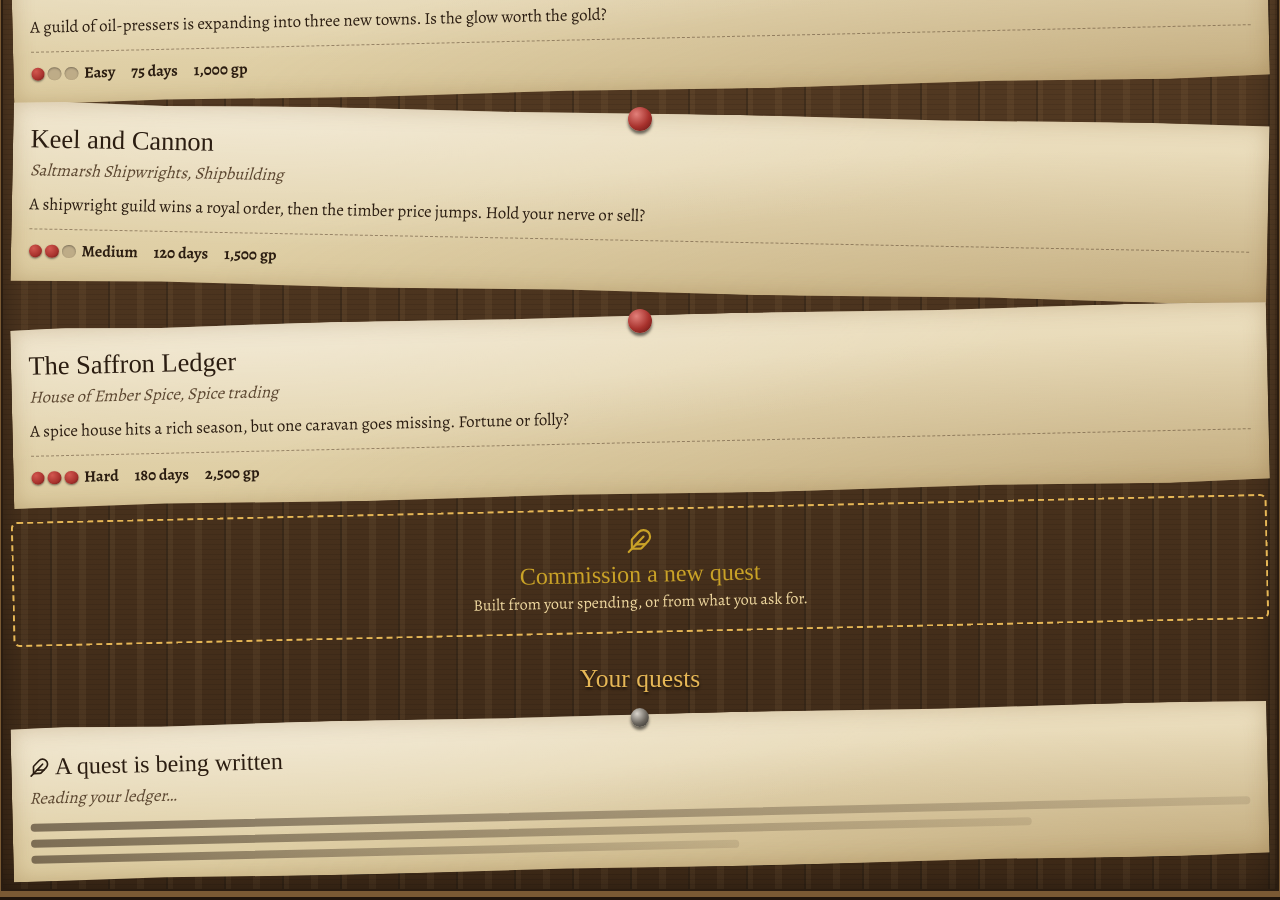
Test: QuestBoard › commissions with the suggestion ("Use this")
(page scrolled)
Click the button "Commission a new quest".
click(640, 570)  # box [11,493,1269,647]
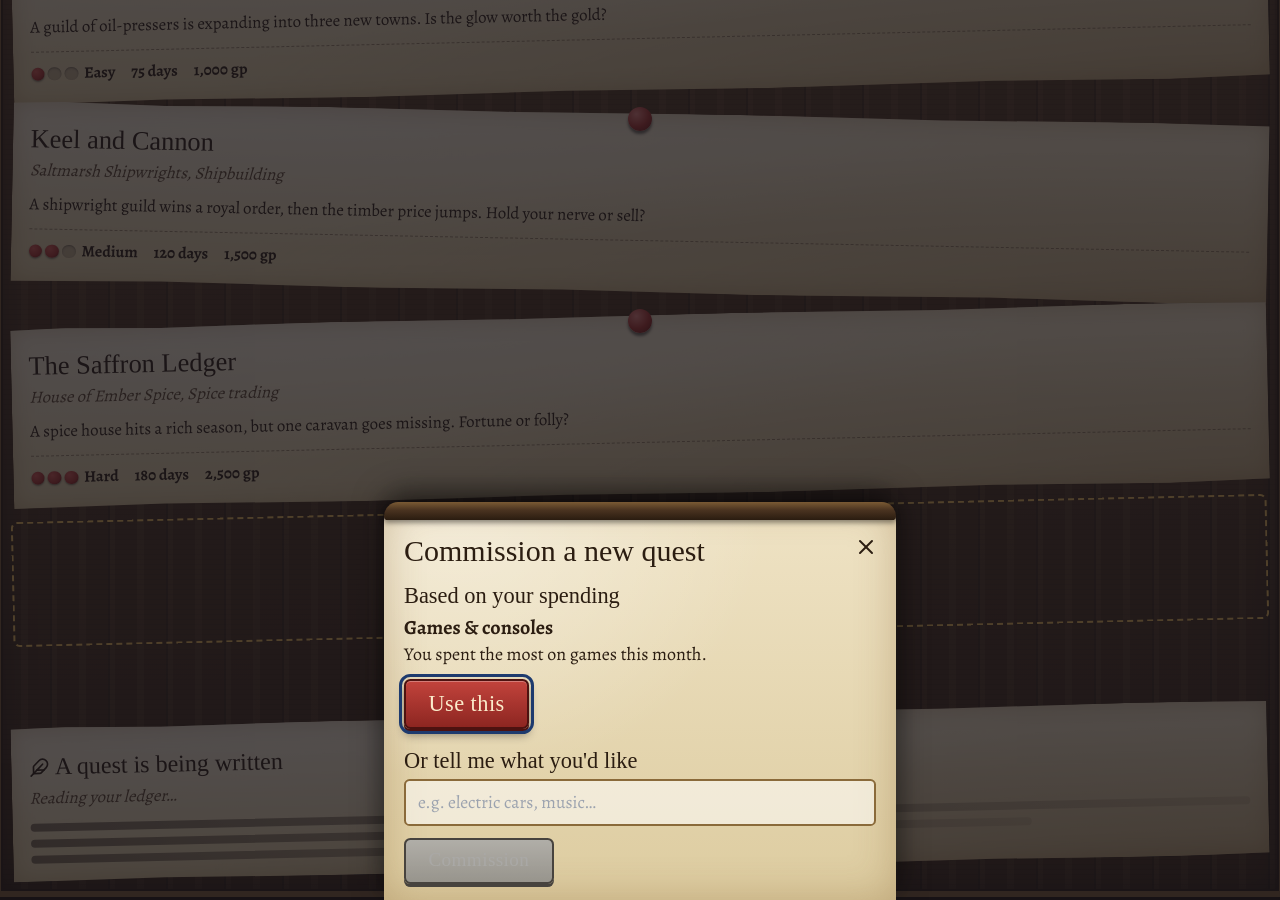
Now the text "Games & consoles" is shown, box [404,614,553,641]
Now the text "You spent the most on games this month." is shown, box [404,642,707,666]
Click the button "Use this".
click(467, 704)  # box [404,679,529,729]
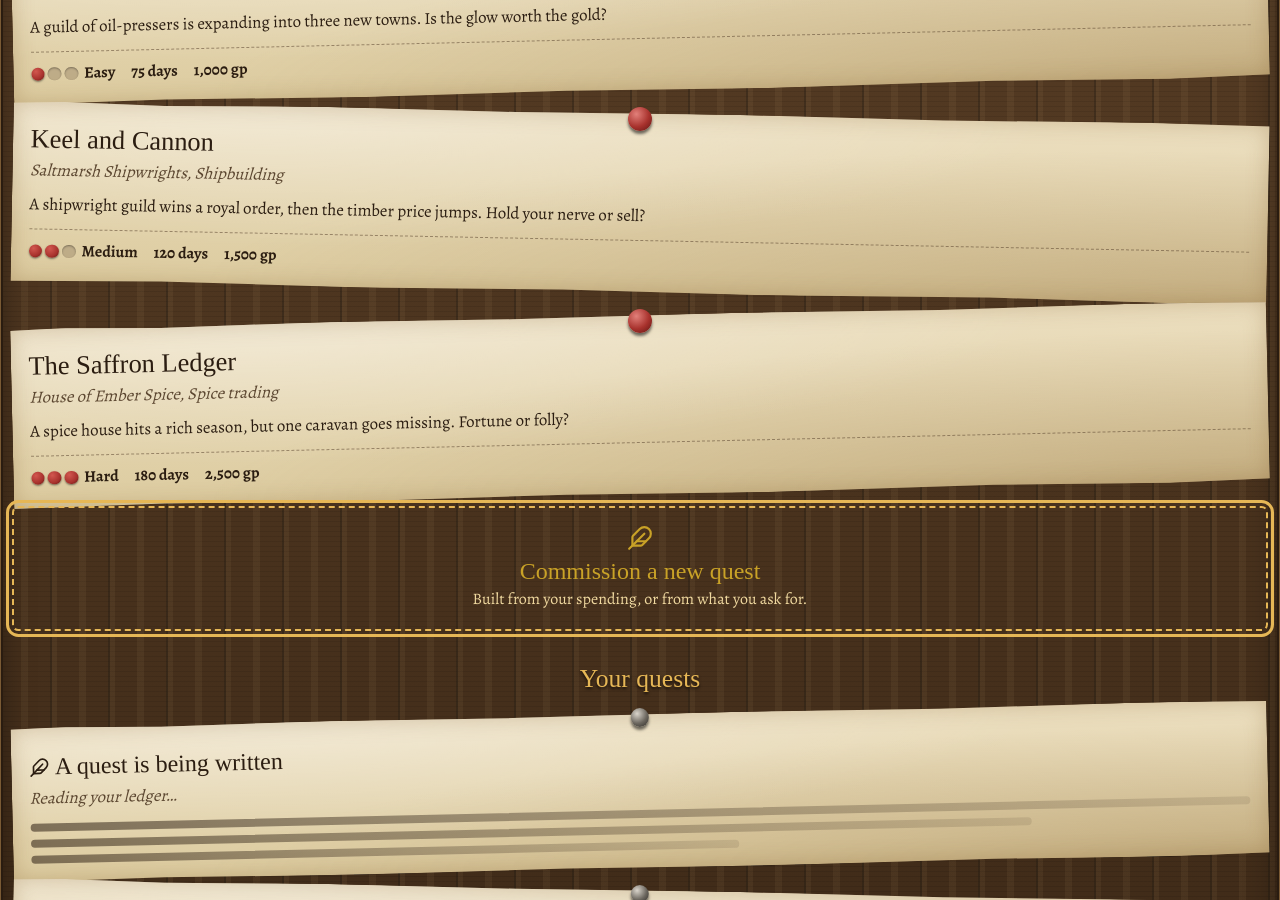
Now the dialog is gone
